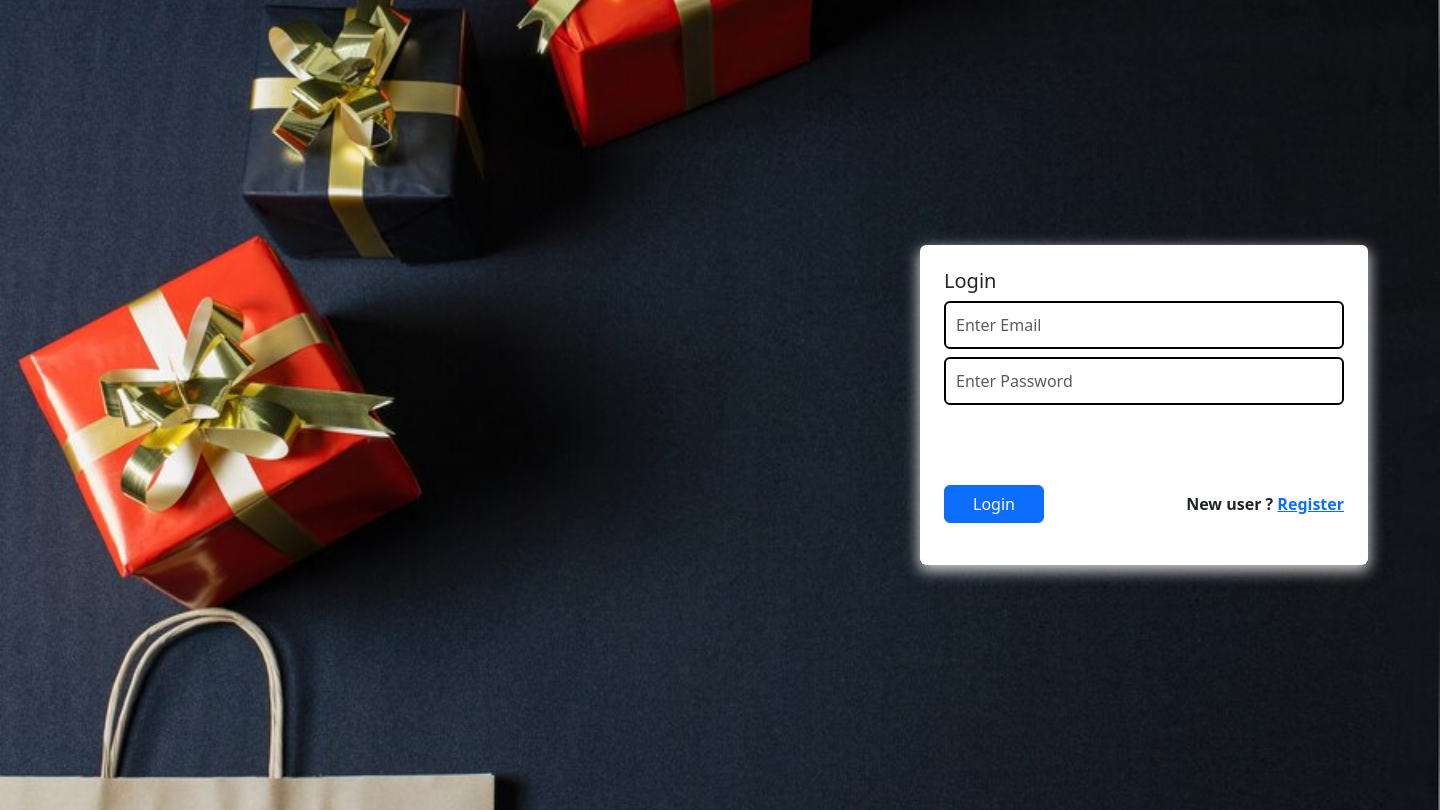
Login › displays error message if login fails
Type "epam123@epam.com" into the field with placeholder "Enter Email" at (1144, 325), box [944,301,1344,349]
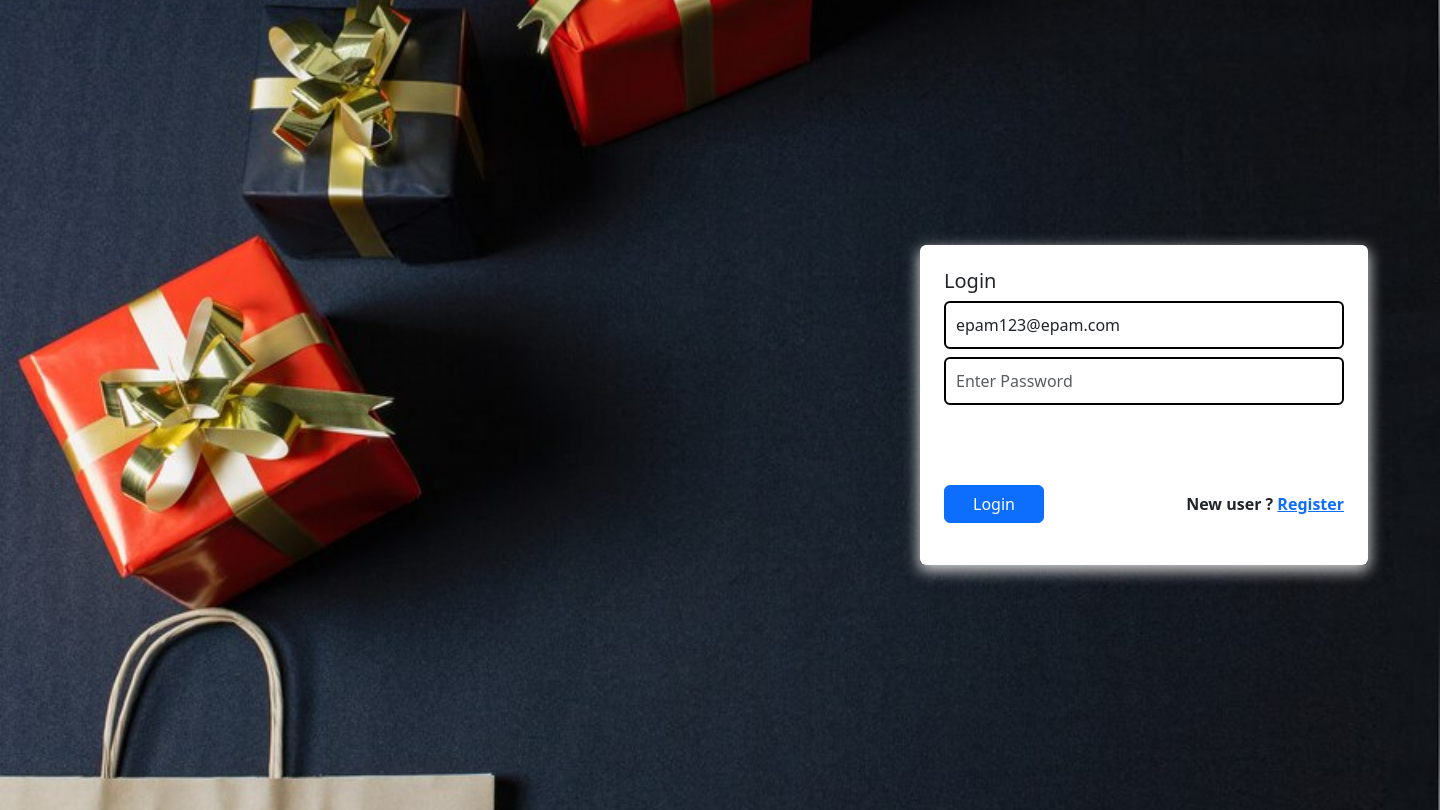
Type "Epam@123" into the password field with placeholder "Enter Password" at (1144, 381), box [944,357,1344,405]
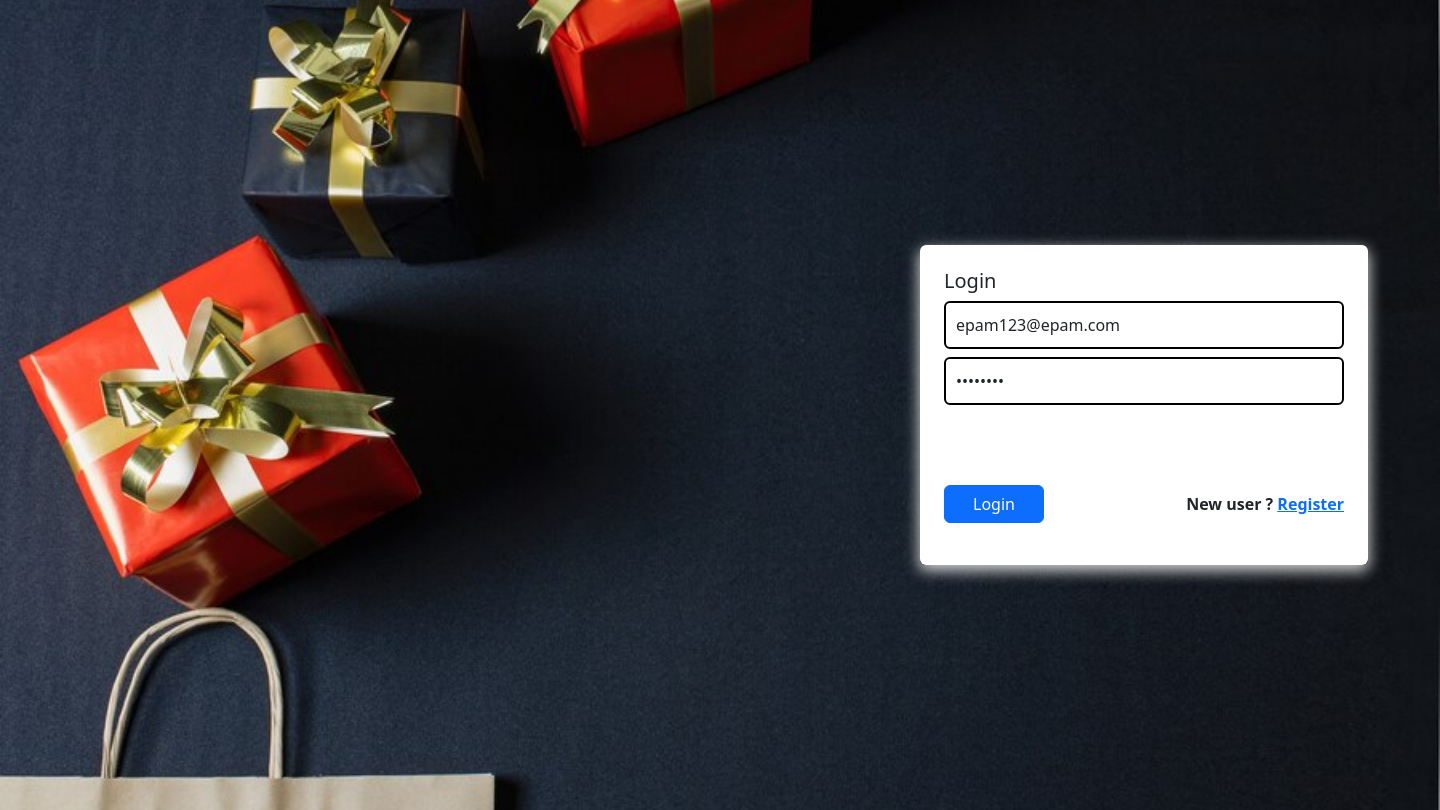
Submit the form with test id "loginForm", box [920,245,1368,565]
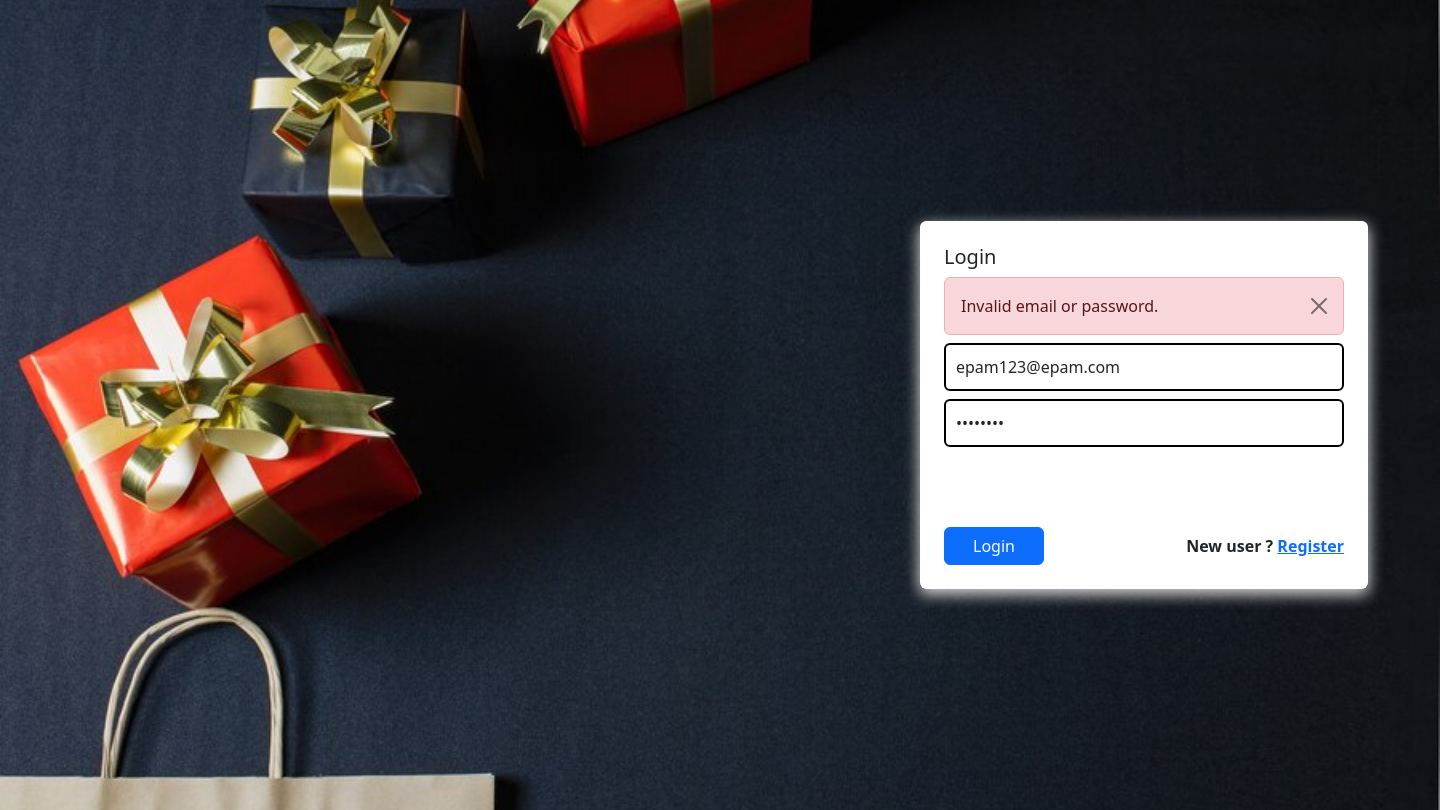
Expected: the text "Invalid email or password." is shown, [944,277,1344,335]
